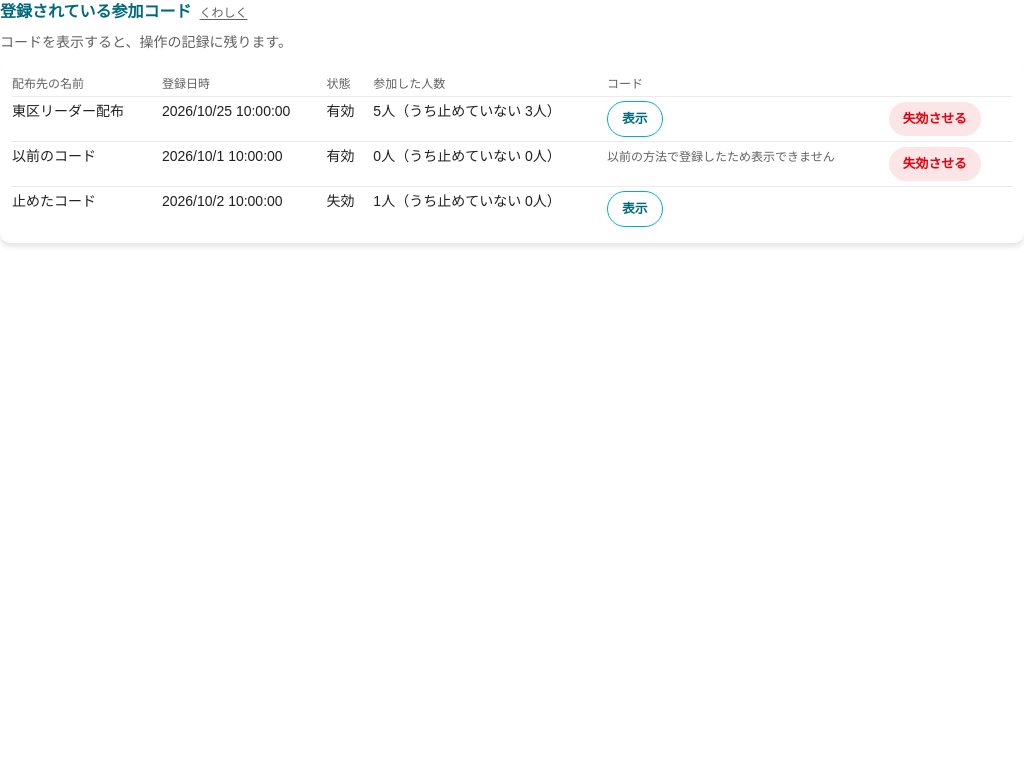
Scenario: 失効に失敗したら理由を出す
Click the button "失効させる" in the row of "東区リーダー配布": {"x": 935, "y": 119} [888, 101, 982, 137]
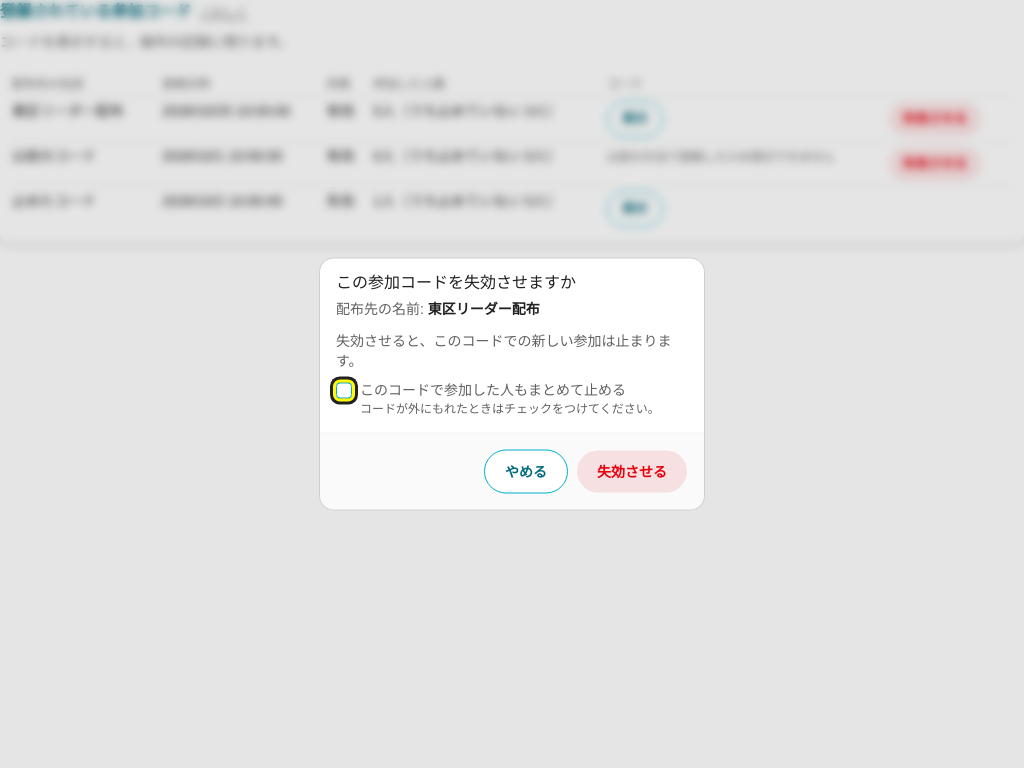
Click the button "失効させる": {"x": 632, "y": 472} [576, 450, 688, 494]
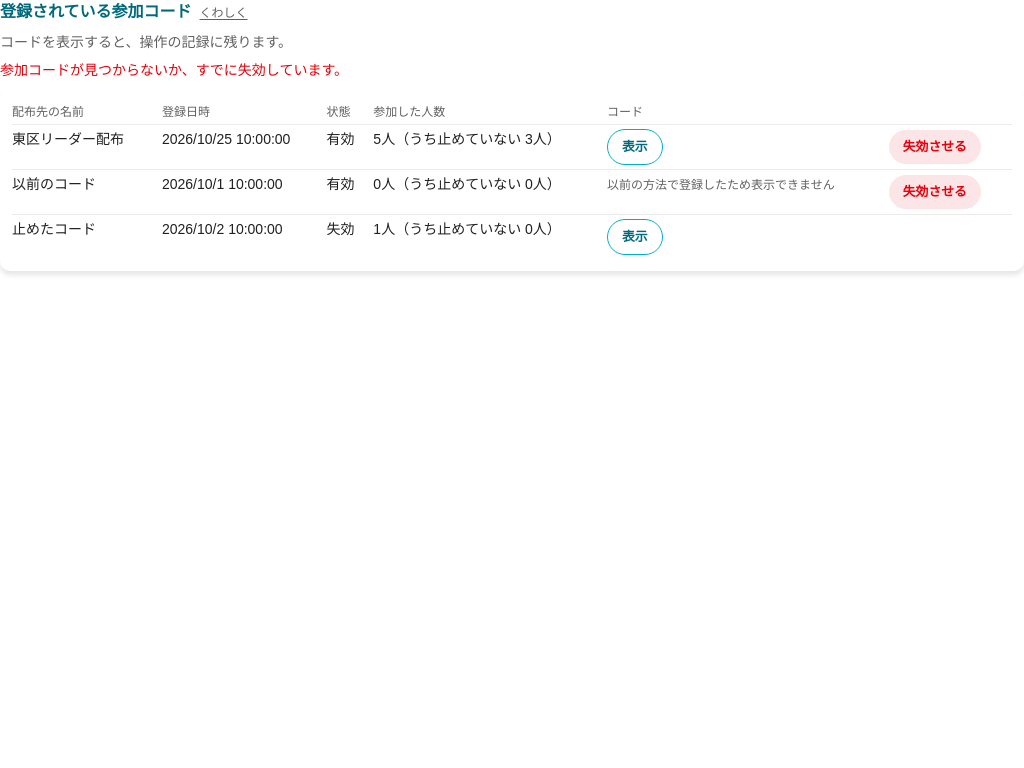
expect the message shows "すでに失効しています": met, box [0, 62, 348, 78]
